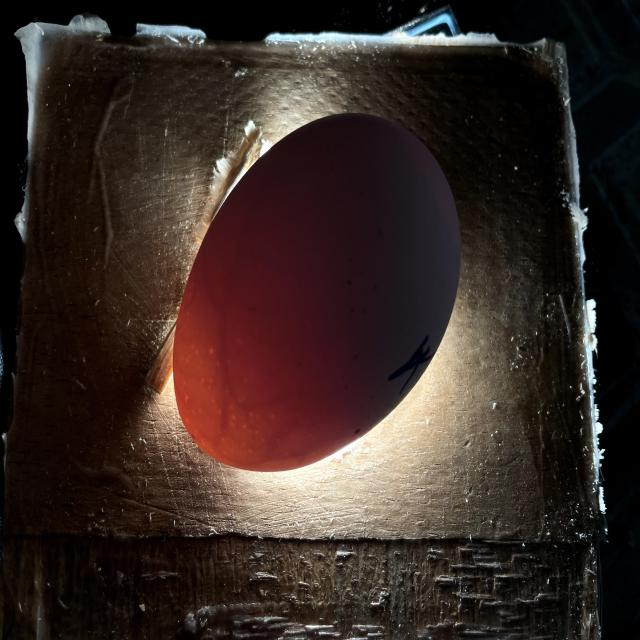fertile: (172, 113, 461, 472)
